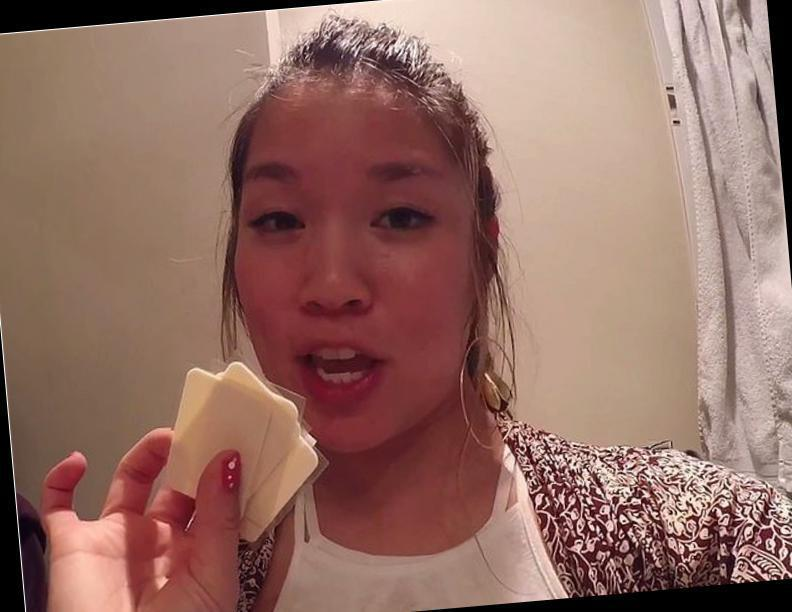Drunk: (239, 104, 472, 448)
